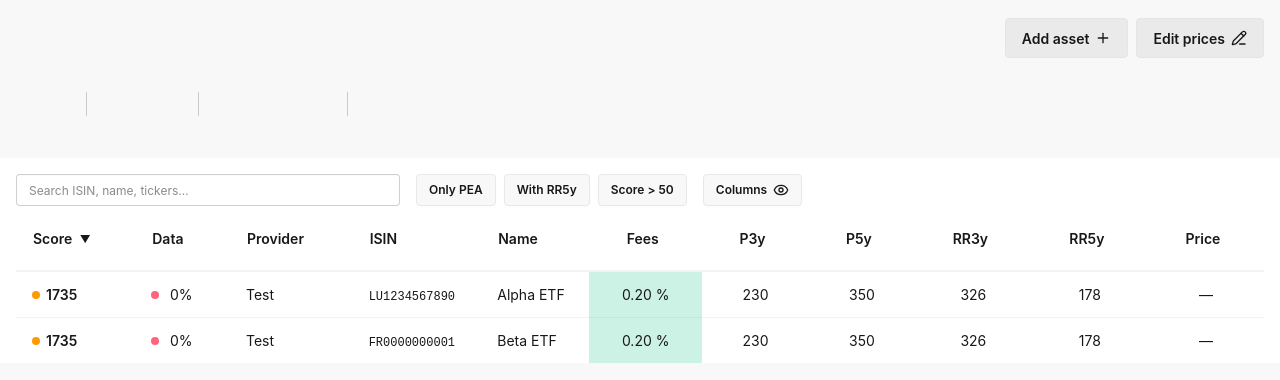
Test: AssetTable - filter › Only PEA button narrows to PEA-eligible assets
This screenshot has width=1280, height=380.
Click the button with test id "filter-only-pea" at point(456, 190), box [416,174,496,206]
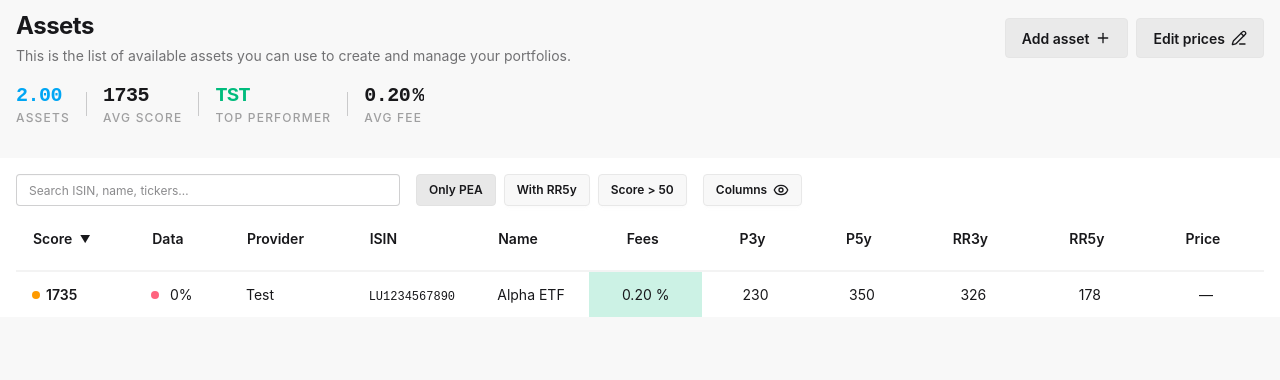
Check: the row with test id "asset-row-LU1234567890" shows "Alpha ETF", box [497,286,565,303]
Check: the row with test id "asset-row-FR0000000001" is gone
